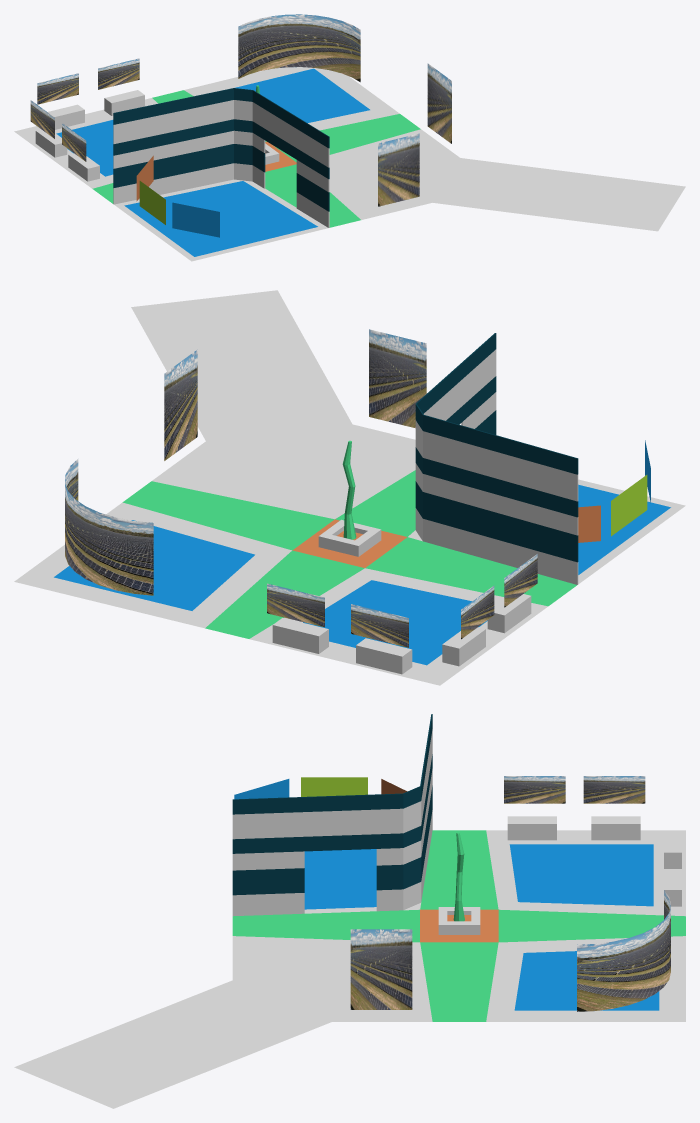
Rendered from InsightCenter.glb.
The picture shows the model from 3 angles, top to bottom: view 1: azimuth 30°, elevation 25°; view 2: azimuth 150°, elevation 25°; view 3: azimuth 270°, elevation 25°; orthographic projection. The views are drawn at different scales.
Visible parts, largest first — view 1: Floor, Plane.005, Cylinder, Cube.008, Cube.009, Plane.006, Cube, Cube.001, Cube.007, Plane.007, Cube.004, Cube.006 (+4 smaller); view 2: Floor, Plane.005, Cylinder, Cube.008, Cube.009, Plane.009, Cube, Cube.001, Cube.006, Cube.007, Plane.007, Cube.005 (+4 smaller); view 3: Floor, Plane.005, Cylinder, Cube.009, Cube.002, Cube.003, Plane.009, Plane.007, Cube.005, Cube.004, Plane.006, Cube.006 (+1 smaller).
Boxes of the visible parts, <box> form: Floor: <box>14,67,685,261</box>; Plane.005: <box>113,88,329,227</box>; Cylinder: <box>238,14,360,82</box>; Cube.008: <box>378,133,419,206</box>; Cube.009: <box>427,63,451,143</box>; Plane.006: <box>172,202,219,237</box>; Cube: <box>98,58,139,89</box>; Cube.001: <box>37,73,78,104</box>; Cube.007: <box>104,90,144,115</box>; Plane.007: <box>139,181,165,224</box>; Cube.004: <box>68,153,99,181</box>; Cube.006: <box>47,104,84,129</box>; Floor: <box>14,290,685,685</box>; Plane.005: <box>415,333,578,584</box>; Cylinder: <box>65,459,153,595</box>; Cube.008: <box>369,329,426,428</box>; Cube.009: <box>164,349,197,460</box>; Plane.009: <box>318,440,381,556</box>; Cube: <box>267,583,324,627</box>; Cube.001: <box>351,604,408,647</box>; Cube.006: <box>356,638,412,674</box>; Cube.007: <box>272,618,328,653</box>; Plane.007: <box>611,475,647,536</box>; Cube.005: <box>442,627,485,666</box>; Floor: <box>14,830,685,1108</box>; Plane.005: <box>232,714,432,916</box>; Cylinder: <box>577,890,670,1011</box>; Cube.009: <box>350,929,412,1009</box>; Cube.002: <box>583,776,645,803</box>; Cube.003: <box>504,776,565,803</box>; Plane.009: <box>438,832,480,934</box>; Plane.007: <box>301,777,367,796</box>; Cube.005: <box>591,816,640,840</box>; Cube.004: <box>507,816,556,840</box>; Plane.006: <box>234,779,289,799</box>; Cube.006: <box>664,832,681,868</box>.
Bounding box in the file's own units: 72.73 × 14.16 × 74.14.
12 materials, 6 textured.
